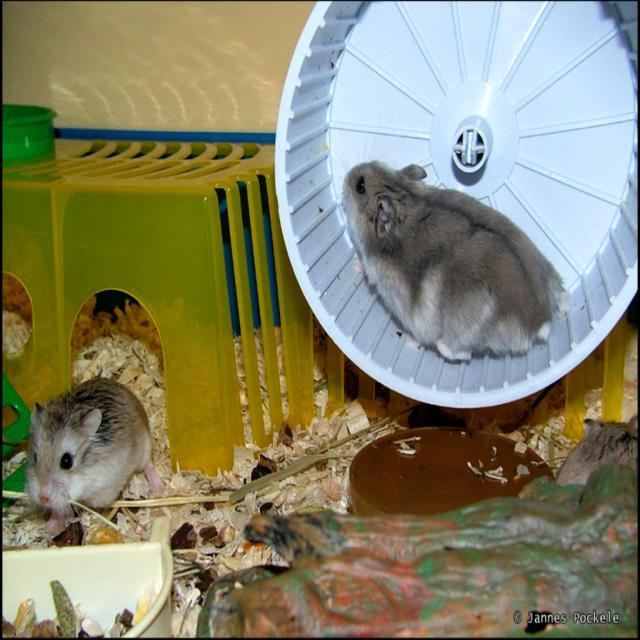rat: (328, 114, 570, 366), (4, 373, 168, 548)
